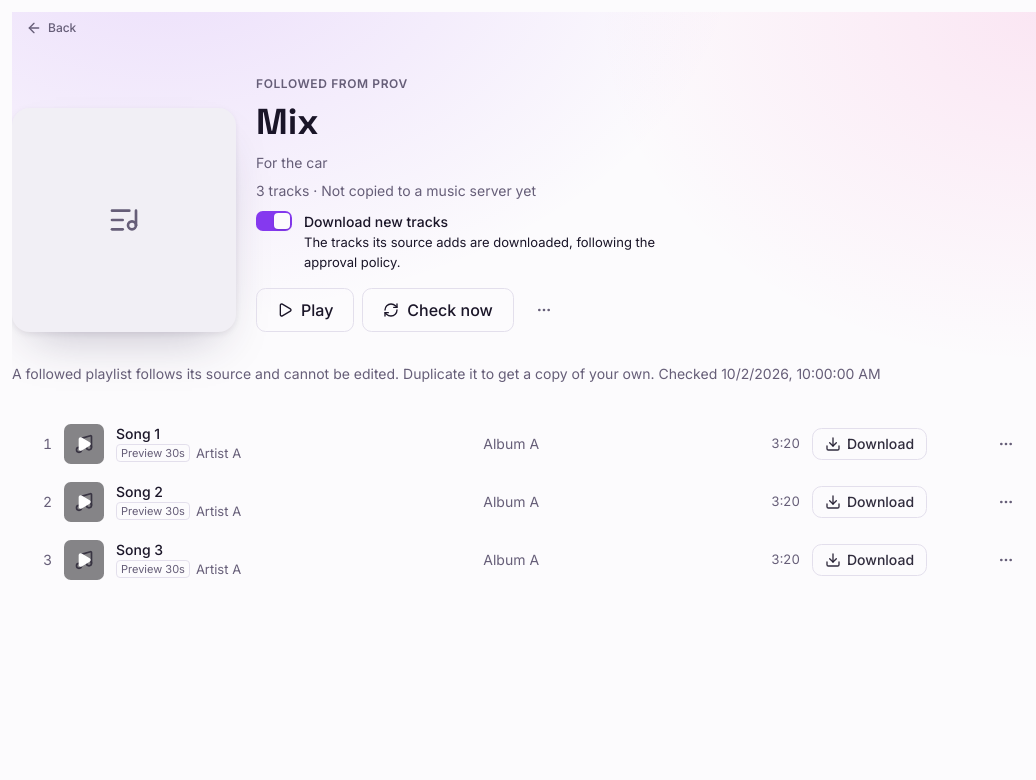
A followed playlist › cannot be renamed from its menu
Expected: the heading "Mix" is shown, top-left (256, 99), bottom-right (319, 145)
Click the button named "More actions for Mix" at coordinates (544, 310), box top-left (522, 288), bottom-right (566, 332)
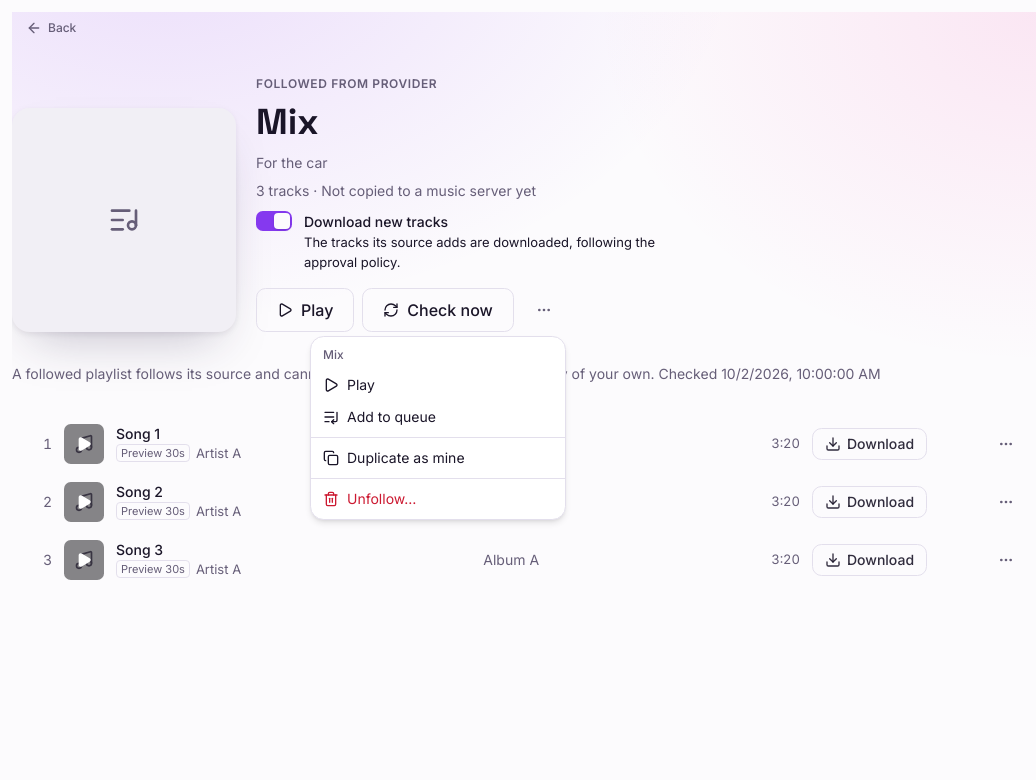
Expected: the menu item "Unfollow…" is shown, top-left (323, 490), bottom-right (416, 507)
